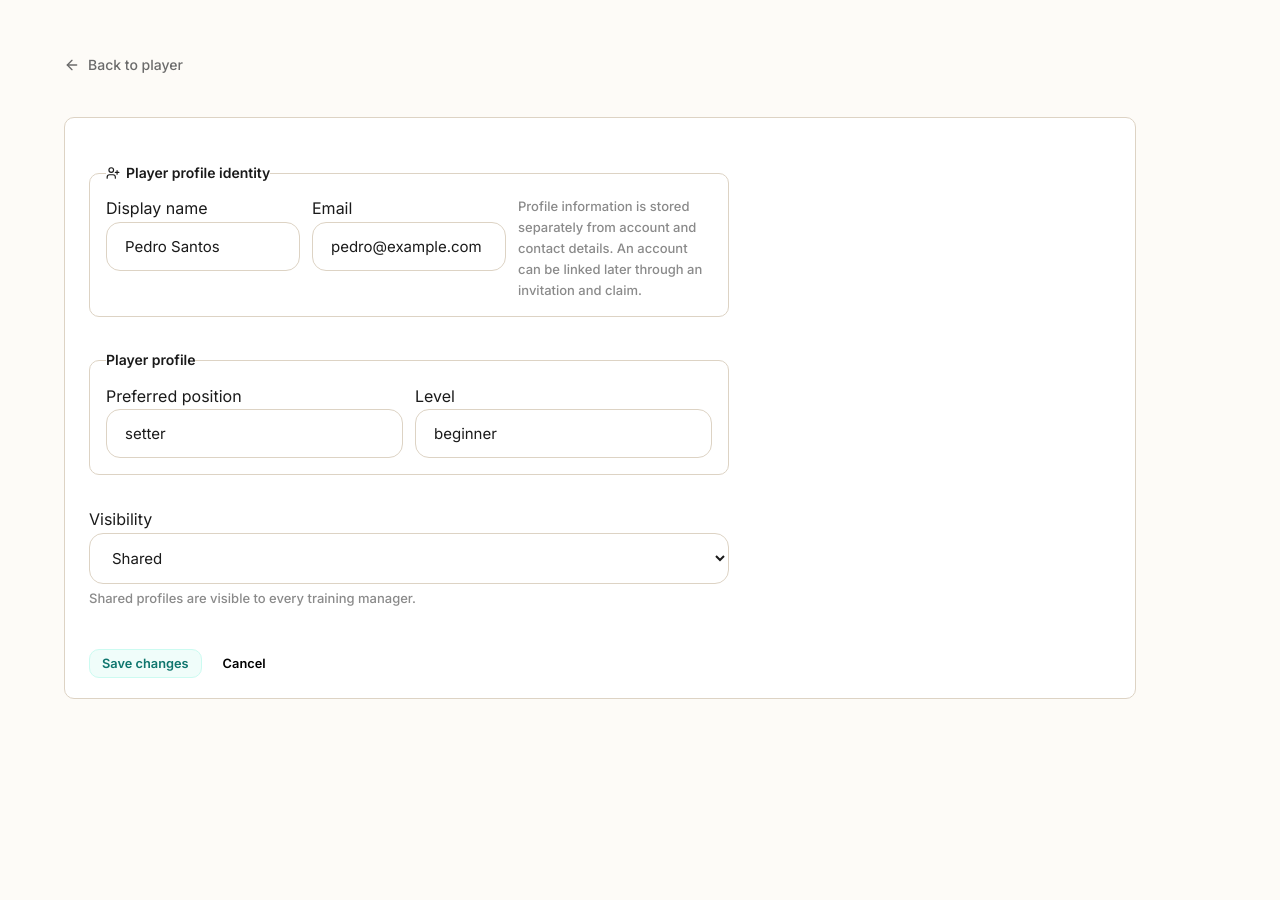
Profile edit page › shows API validation errors
The width and height of the screenshot is (1280, 900).
Check: the field labelled "Display name" is shown, box [106,222,300,271]
Step 1. Click the button "Save changes" → x=145, y=663, box [89,649,202,678]
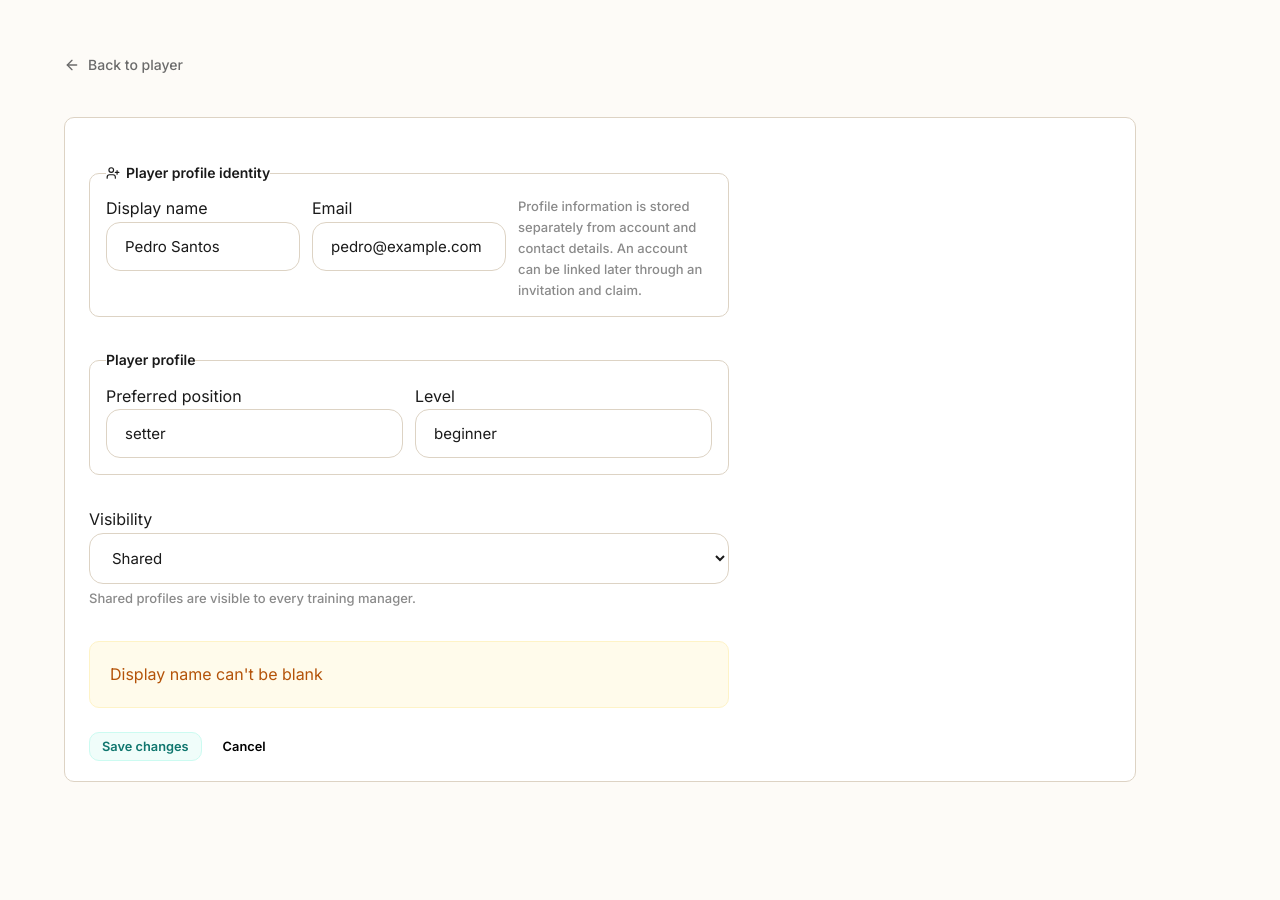
Check: the list item "Display name can't be blank" is shown, box [110,664,323,684]
